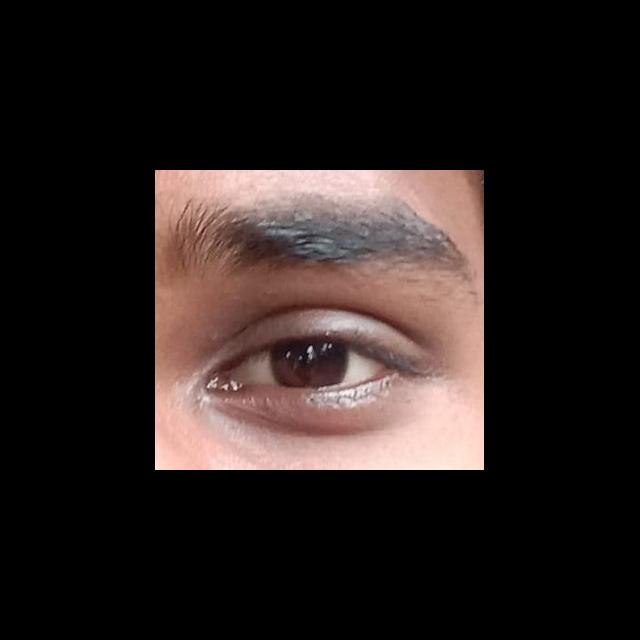eye: (240, 342, 384, 389)
iris: (271, 343, 349, 388)
